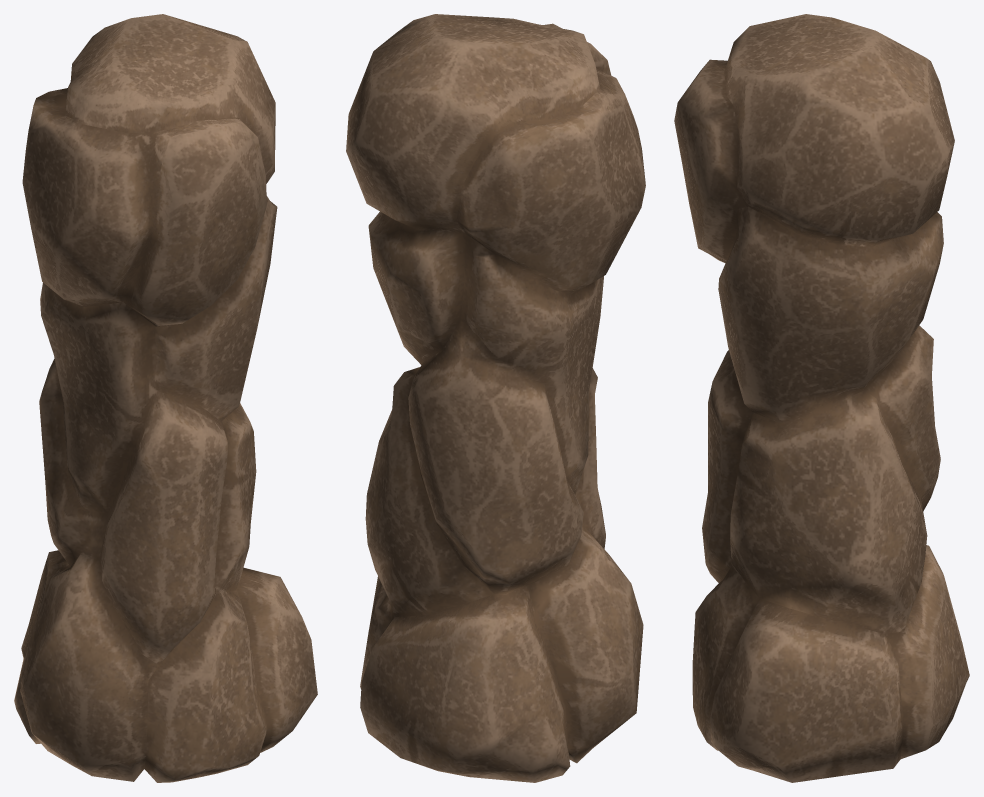
Rendered from sb_obj_nature007_Rock01e.fbx.
The picture shows the model from 3 angles, left to right: view 1: azimuth 30°, elevation 25°; view 2: azimuth 150°, elevation 25°; view 3: azimuth 270°, elevation 25°; orthographic projection.
Parts seen in each view (by area): view 1: sb_obj_nature007_Rock01e; view 2: sb_obj_nature007_Rock01e; view 3: sb_obj_nature007_Rock01e.
Boxes of the visible parts, <box> form: sb_obj_nature007_Rock01e: <box>14,14,317,782</box>; sb_obj_nature007_Rock01e: <box>346,14,645,782</box>; sb_obj_nature007_Rock01e: <box>674,14,969,782</box>.
Size of the model in its own units: 1.34 by 3.45 by 1.31.
